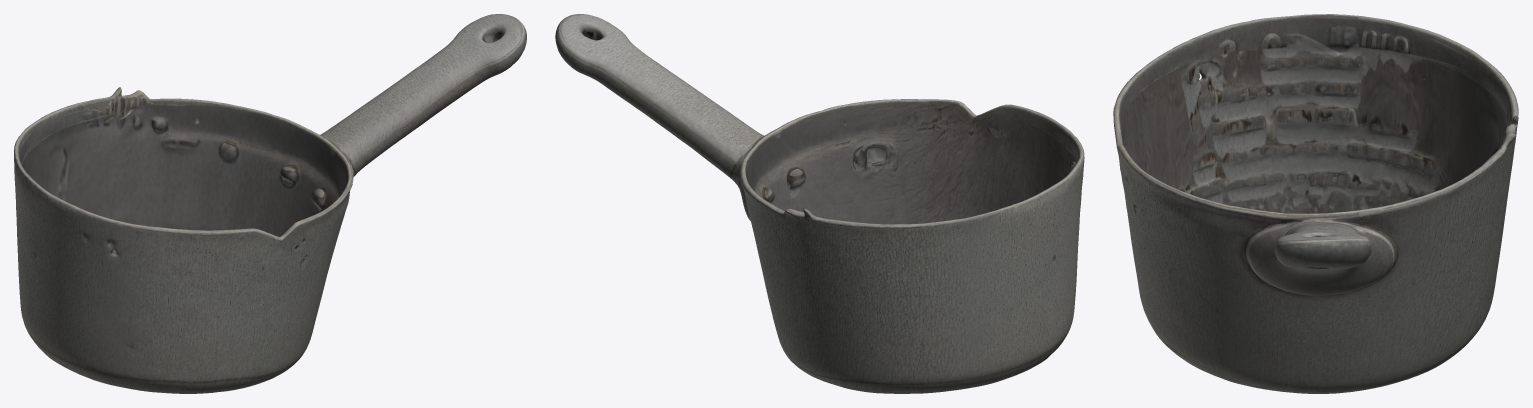
Rendered from MeasuringCup.fbx.
3 renders of one model, left to right at view 1: azimuth 30°, elevation 25°; view 2: azimuth 150°, elevation 25°; view 3: azimuth 270°, elevation 25°, orthographic. The views are drawn at different scales.
Visible parts, largest first — view 1: texture_mapping; view 2: texture_mapping; view 3: texture_mapping.
Boxes of the visible parts, x1=… form: texture_mapping: x1=14, y1=14, x2=526, y2=393; texture_mapping: x1=555, y1=14, x2=1084, y2=393; texture_mapping: x1=1113, y1=14, x2=1518, y2=393.
Size of the model in its own units: 1 by 0.5985 by 0.4835.
1 material, 1 textured.
